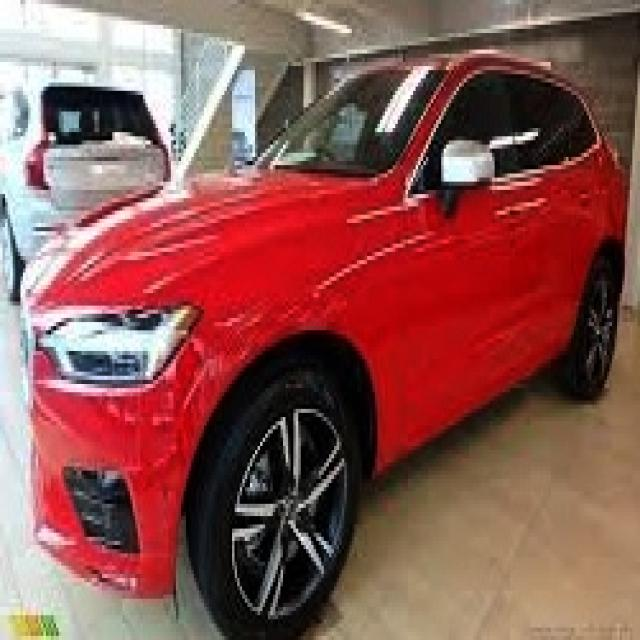red: (0, 41, 625, 582)
